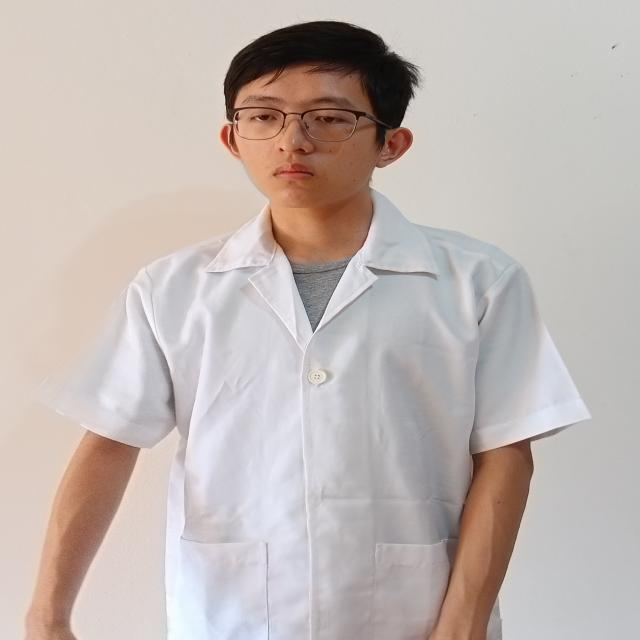person_with_labcoat: (25, 22, 589, 640)
